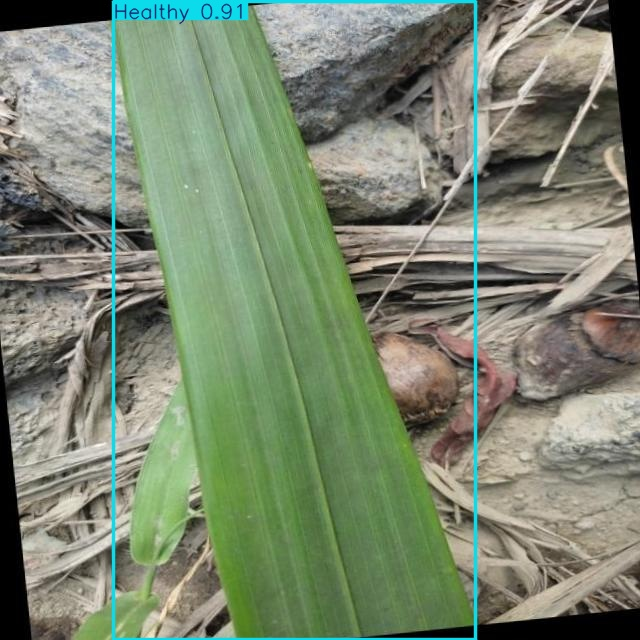Healthy: (114, 1, 475, 640)
